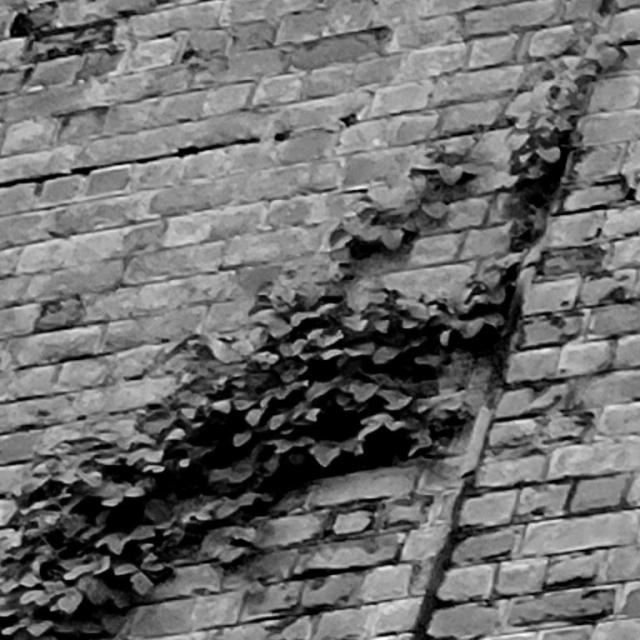crack: (0, 129, 292, 188)
